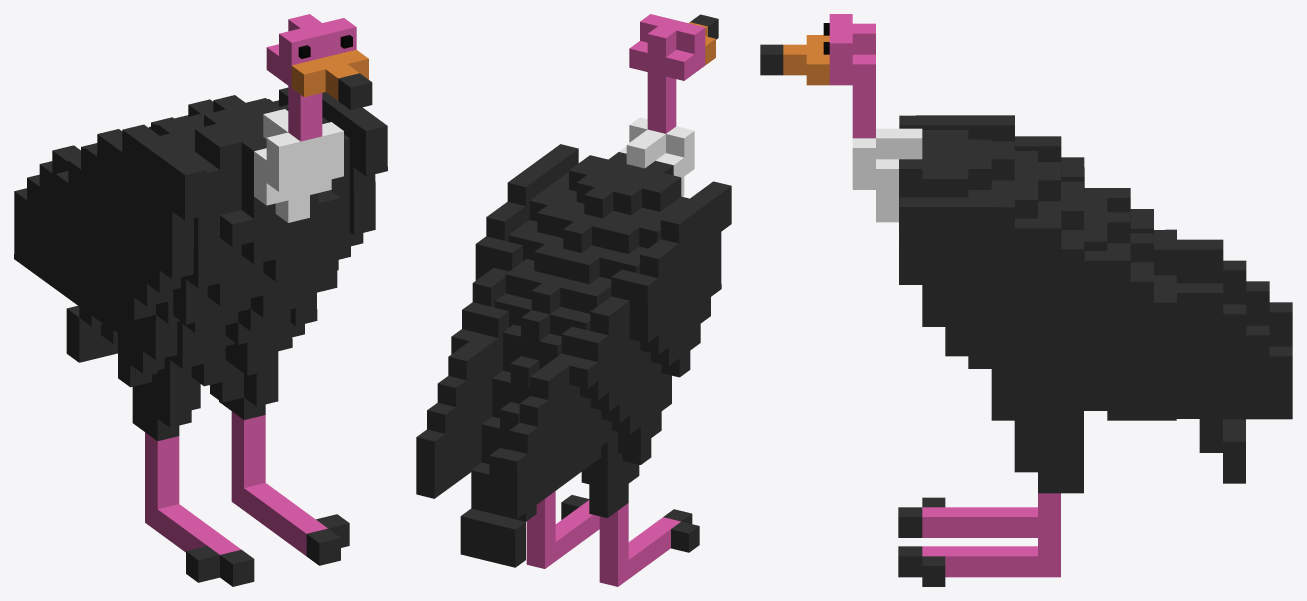
File: vulture_voxel.fbx
The picture shows the model from 3 angles, left to right: view 1: azimuth 30°, elevation 25°; view 2: azimuth 150°, elevation 25°; view 3: azimuth 270°, elevation 25°; orthographic projection. The views are drawn at different scales.
Parts seen in each view (by area): view 1: mod_corps_vulture, mod_aile_droite_vulture, mod_aile_gauche_vulture; view 2: mod_corps_vulture, mod_aile_droite_vulture, mod_aile_gauche_vulture; view 3: mod_aile_gauche_vulture, mod_corps_vulture, mod_aile_droite_vulture.
Part boxes in pixels (left/top/right/bottom): mod_corps_vulture: left=66, top=14, right=372, bottom=586; mod_aile_droite_vulture: left=14, top=124, right=206, bottom=387; mod_aile_gauche_vulture: left=149, top=87, right=387, bottom=351; mod_corps_vulture: left=460, top=14, right=718, bottom=586; mod_aile_droite_vulture: left=499, top=181, right=731, bottom=518; mod_aile_gauche_vulture: left=416, top=144, right=578, bottom=498; mod_aile_gauche_vulture: left=899, top=197, right=1292, bottom=449; mod_corps_vulture: left=760, top=14, right=1245, bottom=586; mod_aile_droite_vulture: left=899, top=115, right=1292, bottom=346.
Size of the model in its own units: 93.49 by 247 by 228.
